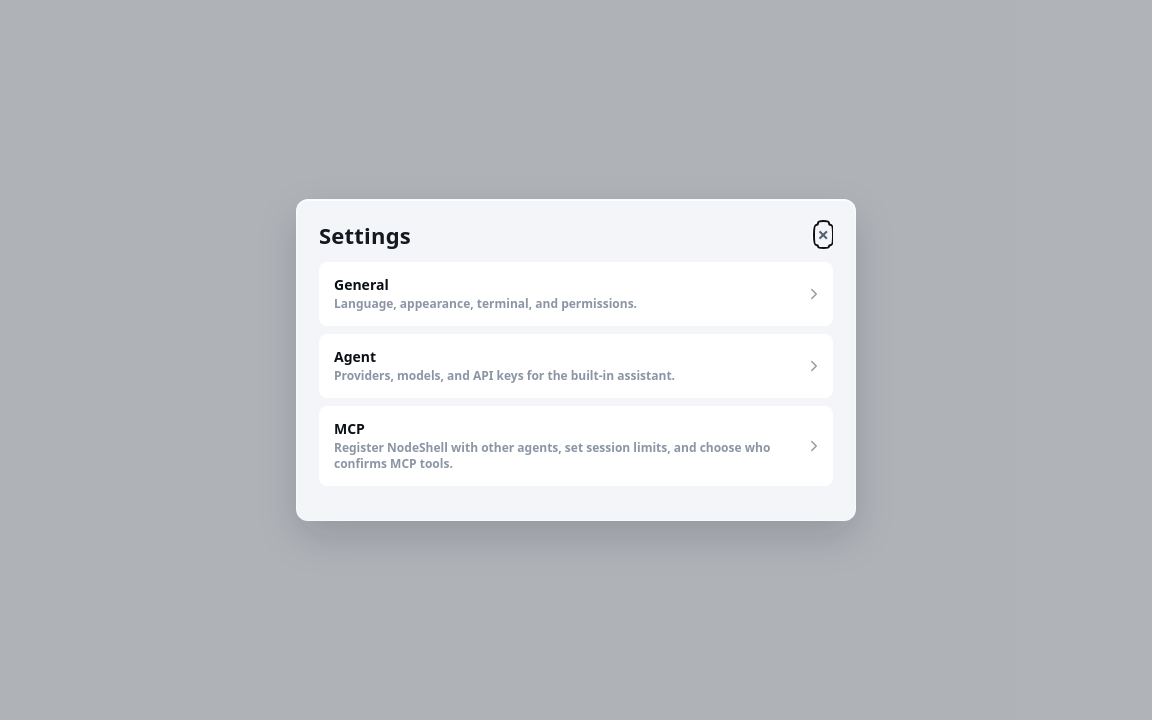
SettingsModal language/theme/font › labels GUI permission policy as applying only to the built-in assistant
The width and height of the screenshot is (1152, 720).
Step 1. Click the button "General" → (576, 294), box left=319, top=262, right=833, bottom=326
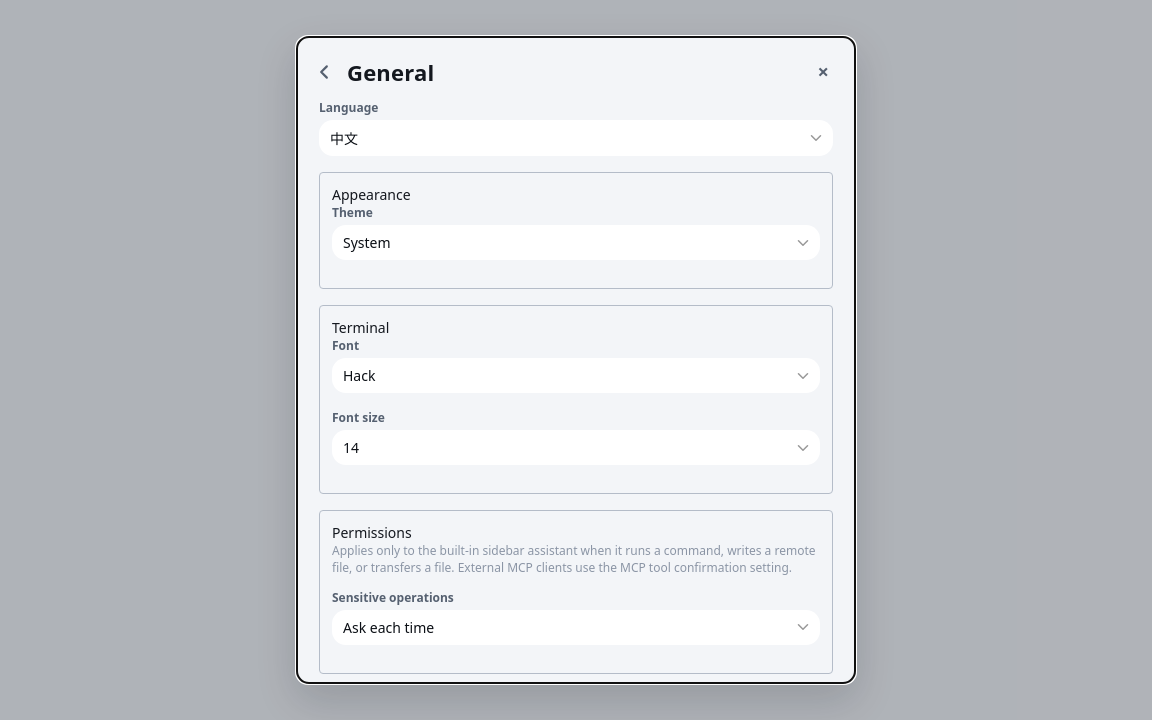
Expected: the dropdown named "Sensitive operations" is shown, left=332, top=610, right=820, bottom=645
Expected: the text "Applies only to the built-in sidebar assistant" is shown, left=332, top=542, right=816, bottom=576
